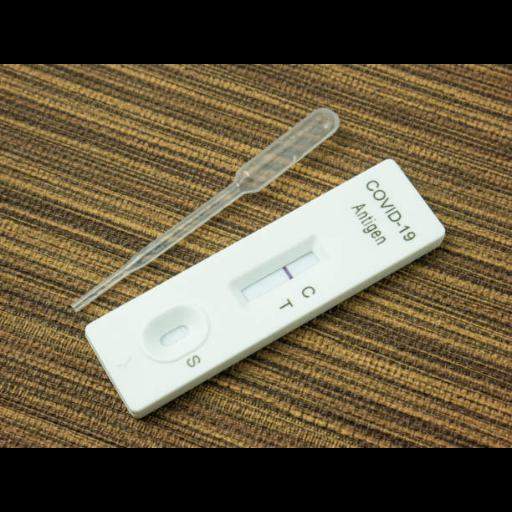Neg: (82, 157, 450, 414)
